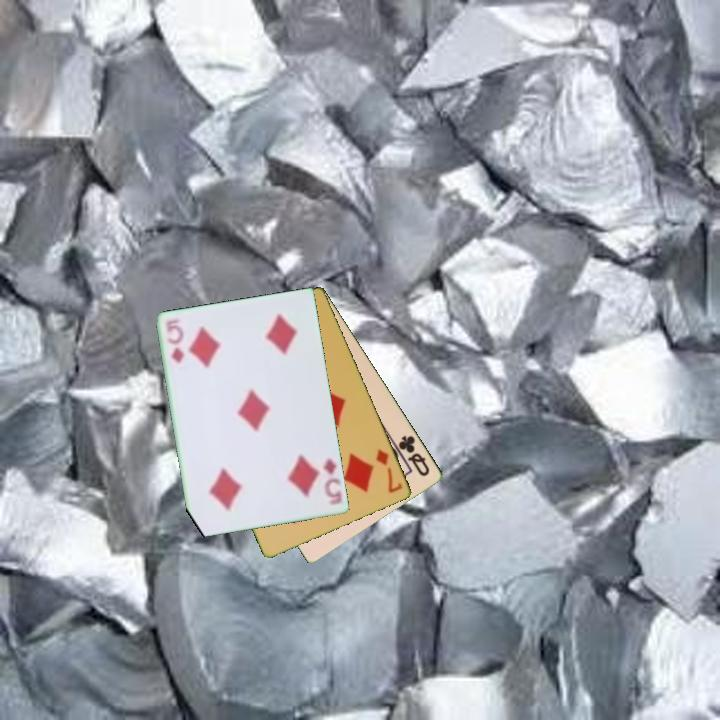5d: (320, 454, 345, 508), (163, 325, 187, 367)
7d: (373, 445, 406, 496)
Qc: (395, 432, 433, 479)
